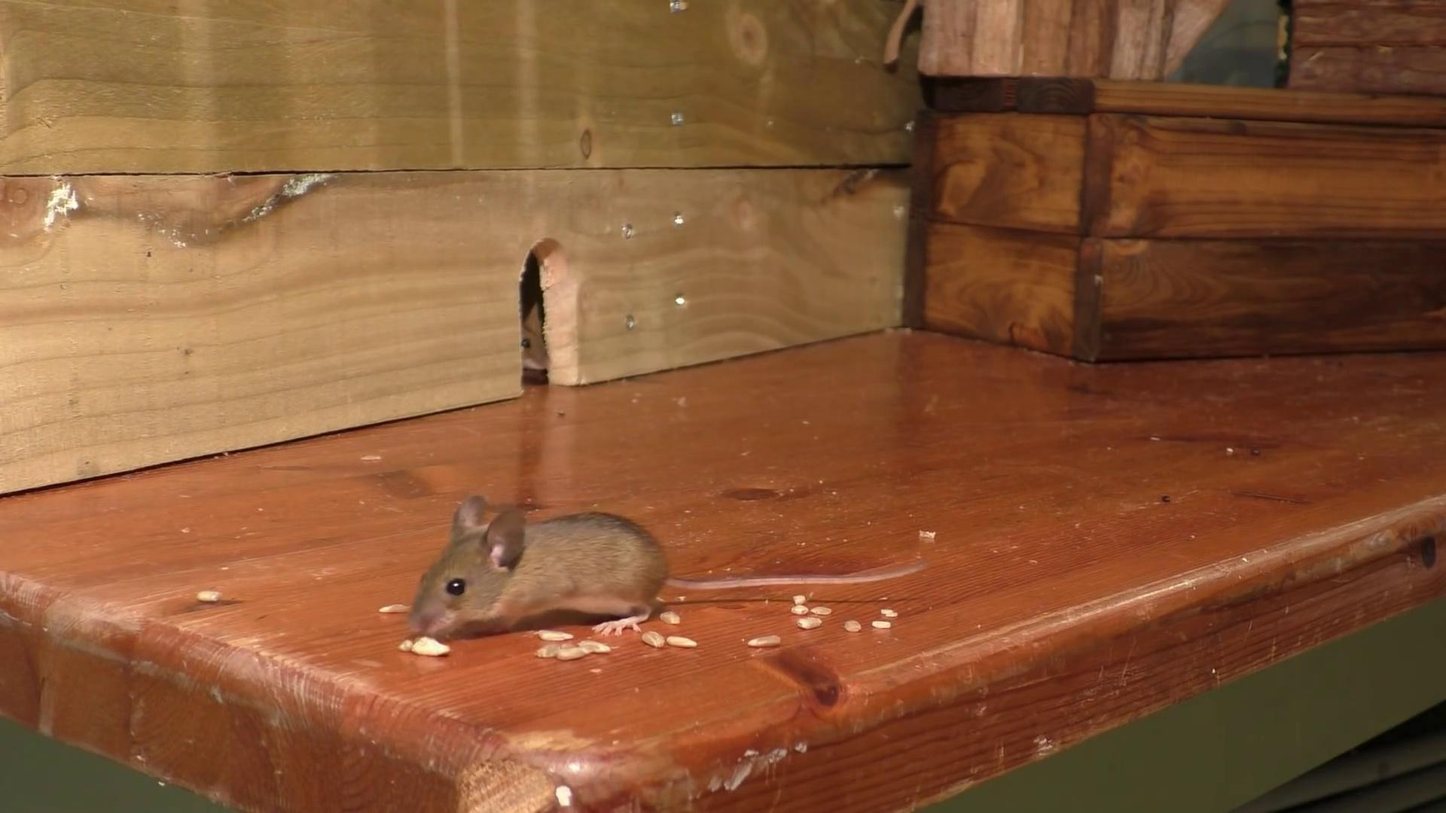rat: (410, 495, 927, 636), (518, 307, 551, 371)
